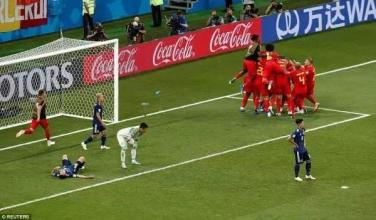10+: (1, 1, 342, 184)
down: (51, 149, 87, 180)
